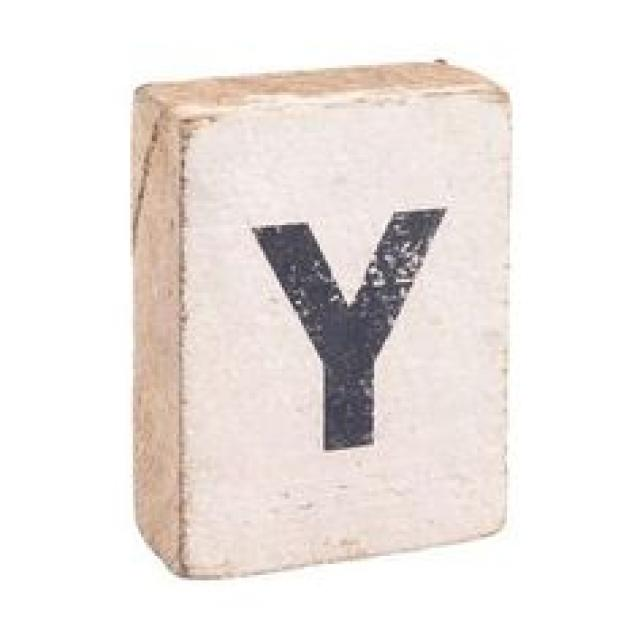Y: (240, 174, 460, 482)
